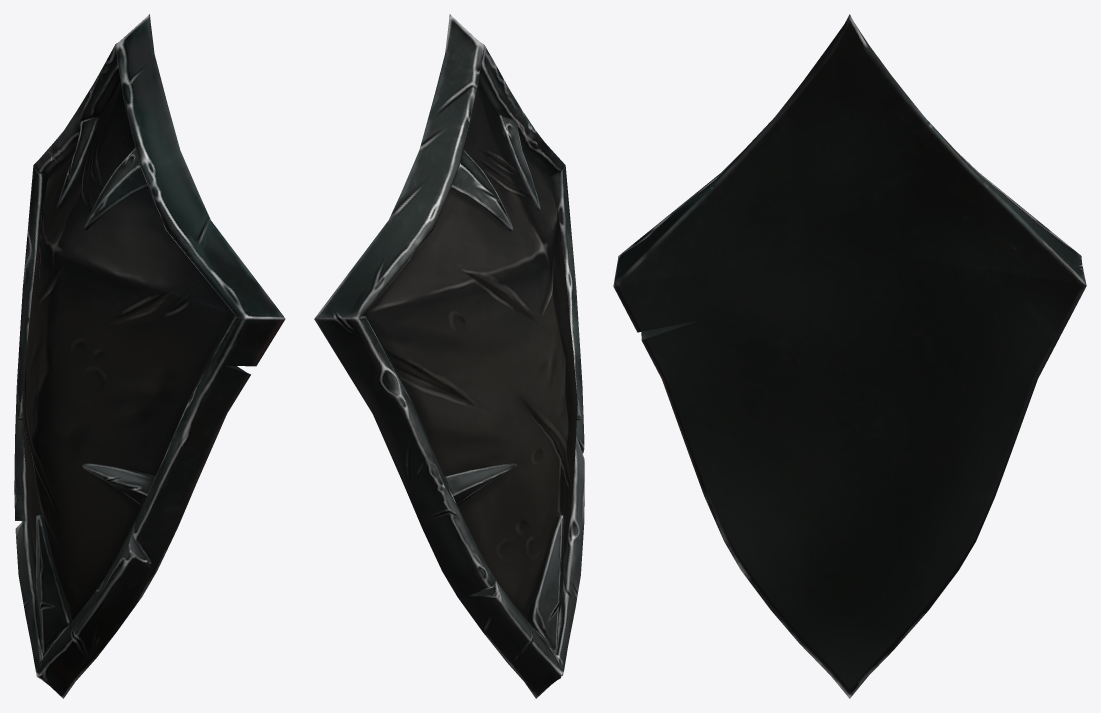
Rendered from SM_Scortched_Tasset.gltf.
3 renders of one model, left to right at view 1: azimuth 30°, elevation 25°; view 2: azimuth 150°, elevation 25°; view 3: azimuth 270°, elevation 25°, orthographic. The views are drawn at different scales.
Parts seen in each view (by area): view 1: SM_ScortchedTasset; view 2: SM_ScortchedTasset; view 3: SM_ScortchedTasset.
Part boxes in pixels (x1,y1,x2,y2): SM_ScortchedTasset: (14,14,285,698); SM_ScortchedTasset: (314,14,584,698); SM_ScortchedTasset: (613,14,1086,698).
Size of the model in its own units: 0.0984 by 0.427 by 0.2505.
Materials: 1 (1 with a texture image).
